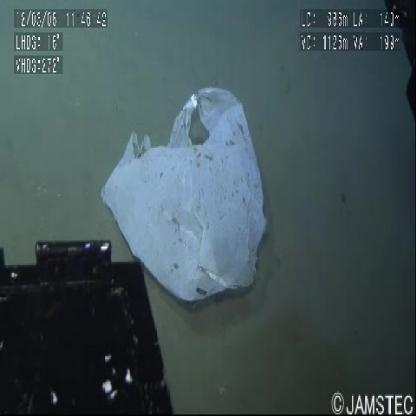Rov: (1, 223, 179, 416), (384, 5, 416, 124)
Rác: (97, 71, 283, 310)
